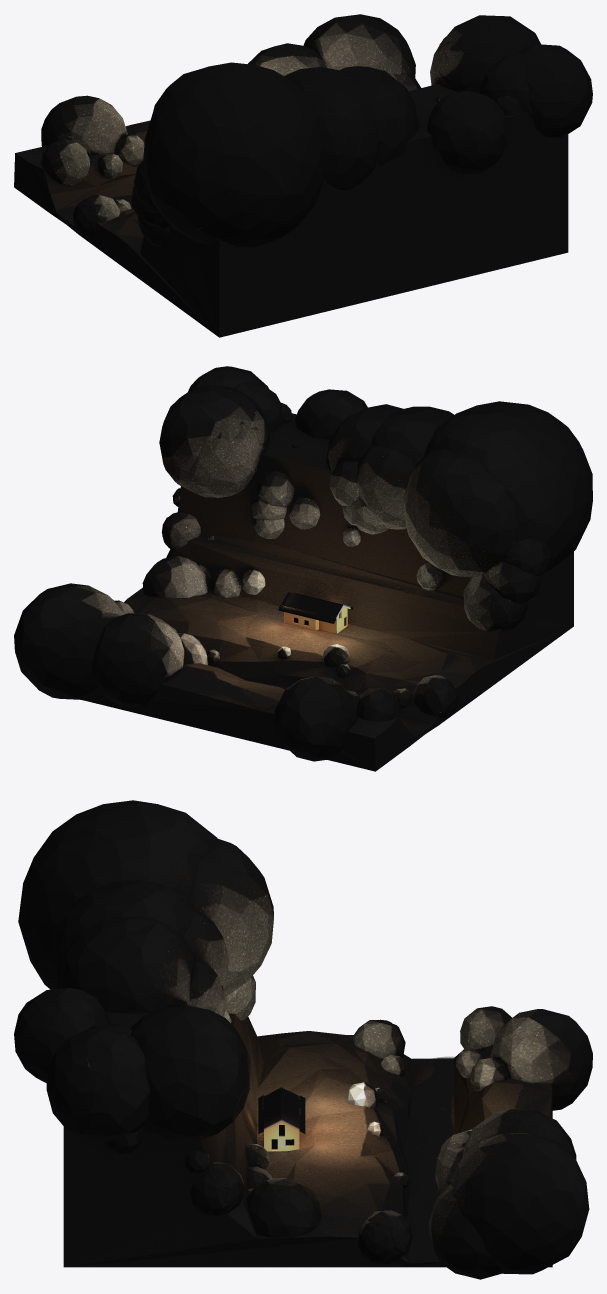
Rendered from CHATA.glb.
3 renders of one model, top to bottom at view 1: azimuth 30°, elevation 25°; view 2: azimuth 150°, elevation 25°; view 3: azimuth 270°, elevation 25°, orthographic. The views are drawn at different scales.
Visible parts, largest first — view 1: Cube.004, Cube; view 2: Cube.004, Cube, Plane; view 3: Cube.004, Cube, Cube.001, Plane.
Boxes of the visible parts, box(x1,y1,x2,y2) form: Cube.004: box(41, 14, 592, 248); Cube: box(14, 84, 568, 337); Cube.004: box(14, 366, 592, 761); Cube: box(79, 413, 573, 771); Plane: box(278, 592, 352, 633); Cube.004: box(14, 800, 592, 1279); Cube: box(63, 1002, 552, 1267); Cube.001: box(407, 1057, 454, 1262); Plane: box(258, 1087, 305, 1151).
Bounding box in the file's own units: 27.18 × 15.21 × 27.23.
Materials: 6 (4 with a texture image).
